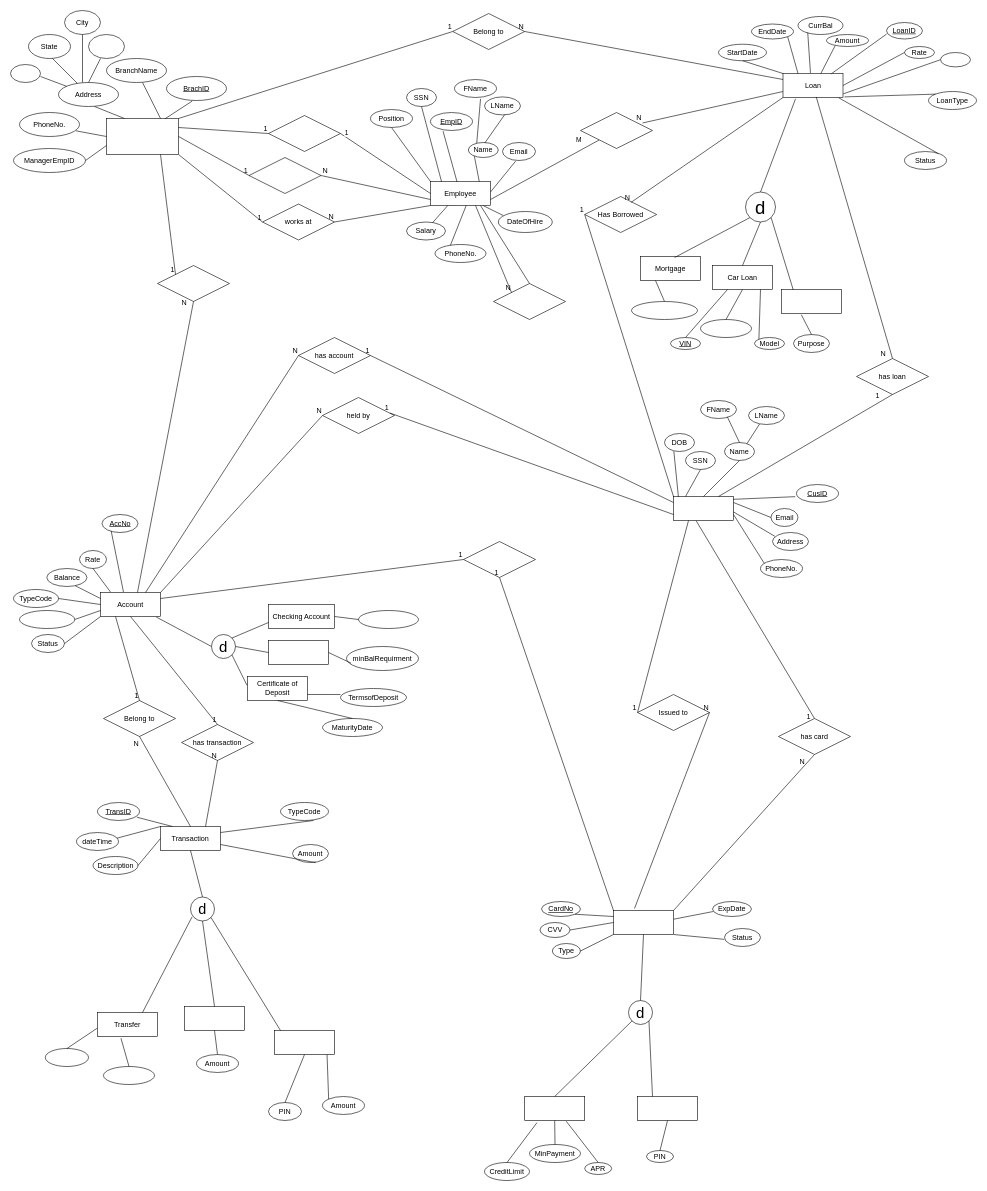
This 987x1191 diagram has some shape labels left out. The box of each missing label's shape, as (x1, y1, x2, y2) in pixels:
Bank Brach: (106, 118, 178, 154)
Card: (613, 910, 674, 934)
Credit Card: (524, 1096, 585, 1120)
Customer: (673, 496, 734, 520)
DateOpened: (19, 610, 75, 628)
Debit Card: (637, 1096, 698, 1120)
Deposit: (184, 1006, 244, 1030)
employs: (248, 157, 321, 194)
FromAccNo: (103, 1066, 154, 1084)
is Managed by: (268, 115, 340, 152)
Linked to: (463, 541, 536, 578)
maintained by: (157, 265, 230, 302)
manages: (493, 283, 566, 320)
overdraft_limit: (358, 610, 418, 628)
Personnal Loan: (781, 289, 842, 314)
Processed by: (580, 112, 652, 148)
PropertyAddress: (631, 301, 698, 320)
Saving Account: (268, 640, 328, 664)
Street: (88, 34, 124, 58)
Term: (940, 52, 970, 67)
ToAccNo: (45, 1048, 88, 1066)
VehicleMake: (700, 319, 752, 338)
Withdrawal: (274, 1030, 334, 1054)
Zip: (10, 64, 40, 82)
